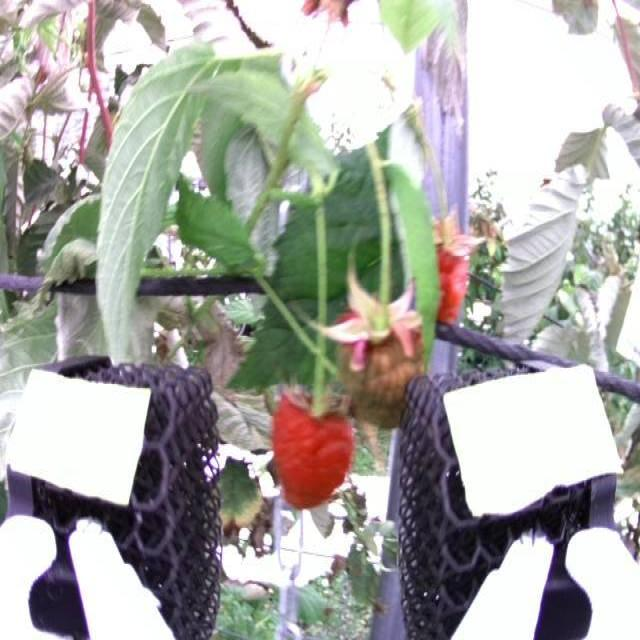Riped berries: (271, 384, 357, 509), (421, 216, 479, 328)
